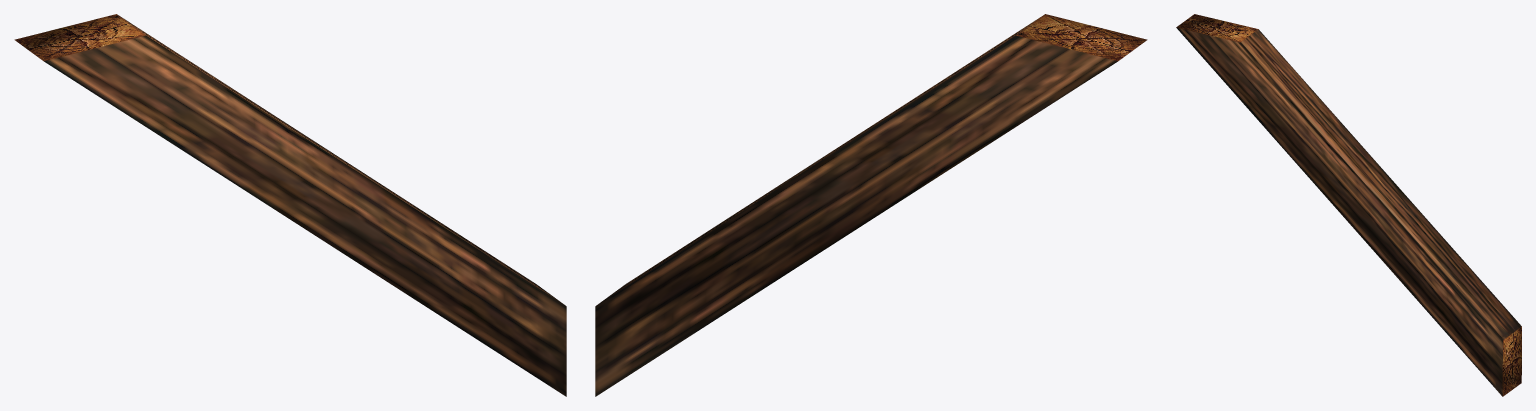
File: LAKETOWN_WAREHOUSE1_ANIM_WH1_FALLBEAM1199__AI.fbx
3 views of the same model, side by side, from view 1: azimuth 30°, elevation 25°; view 2: azimuth 150°, elevation 25°; view 3: azimuth 330°, elevation 25° (orthographic). The views are drawn at different scales.
Visible parts, largest first — view 1: LAKETOWN_WAREHOUSE1_ANIM_WH1_FALLBEAM1199__AI; view 2: LAKETOWN_WAREHOUSE1_ANIM_WH1_FALLBEAM1199__AI; view 3: LAKETOWN_WAREHOUSE1_ANIM_WH1_FALLBEAM1199__AI.
Part boxes in pixels (left/top/right/bottom): LAKETOWN_WAREHOUSE1_ANIM_WH1_FALLBEAM1199__AI: left=14, top=14, right=566, bottom=396; LAKETOWN_WAREHOUSE1_ANIM_WH1_FALLBEAM1199__AI: left=595, top=14, right=1147, bottom=396; LAKETOWN_WAREHOUSE1_ANIM_WH1_FALLBEAM1199__AI: left=1176, top=14, right=1521, bottom=396.
Bounding box in the file's own units: 17661 × 14970 × 1784.
2 materials, 2 textured.
